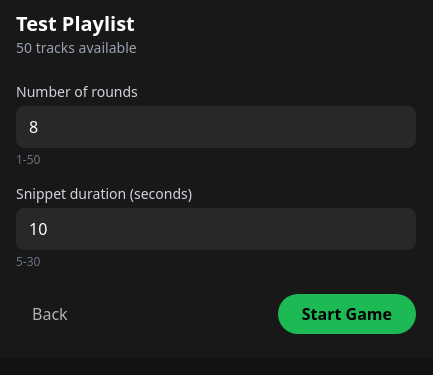
GameSettings › shows error for invalid duration
The width and height of the screenshot is (433, 375).
Replace the text in the number field labelled "Snippet duration (seconds)" with "3" at {"x": 216, "y": 229}, box [16,208,416,250]
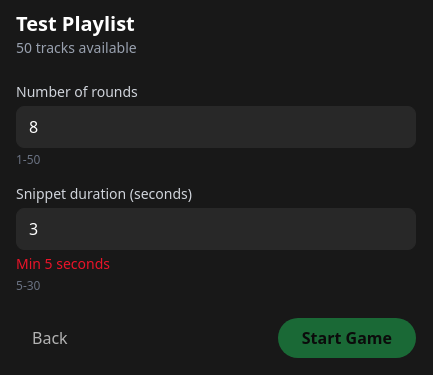
Expected: the text "Min 5 seconds" is shown, [16,254,110,273]
